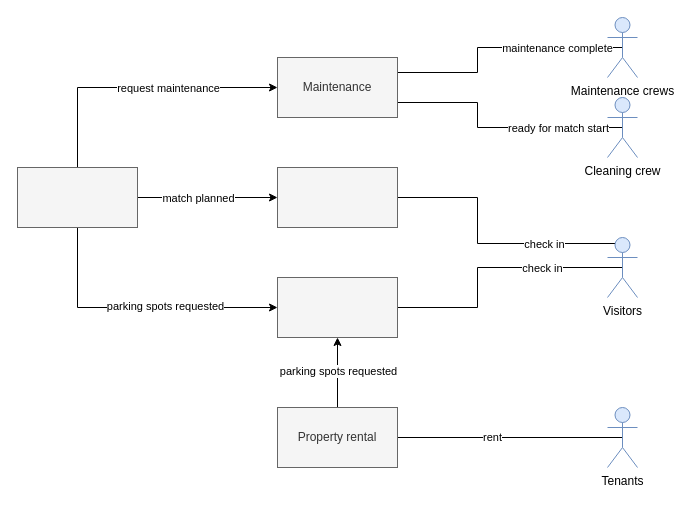
The diagram is 691 pixels wide and 506 high, and some of its shapes have lost their labels. The centre of each missing label's shape, as x and y in pixels:
"Match management" belongs at point 77,197.
"Parking management" belongs at point 337,307.
"Ticketing" belongs at point 337,197.
